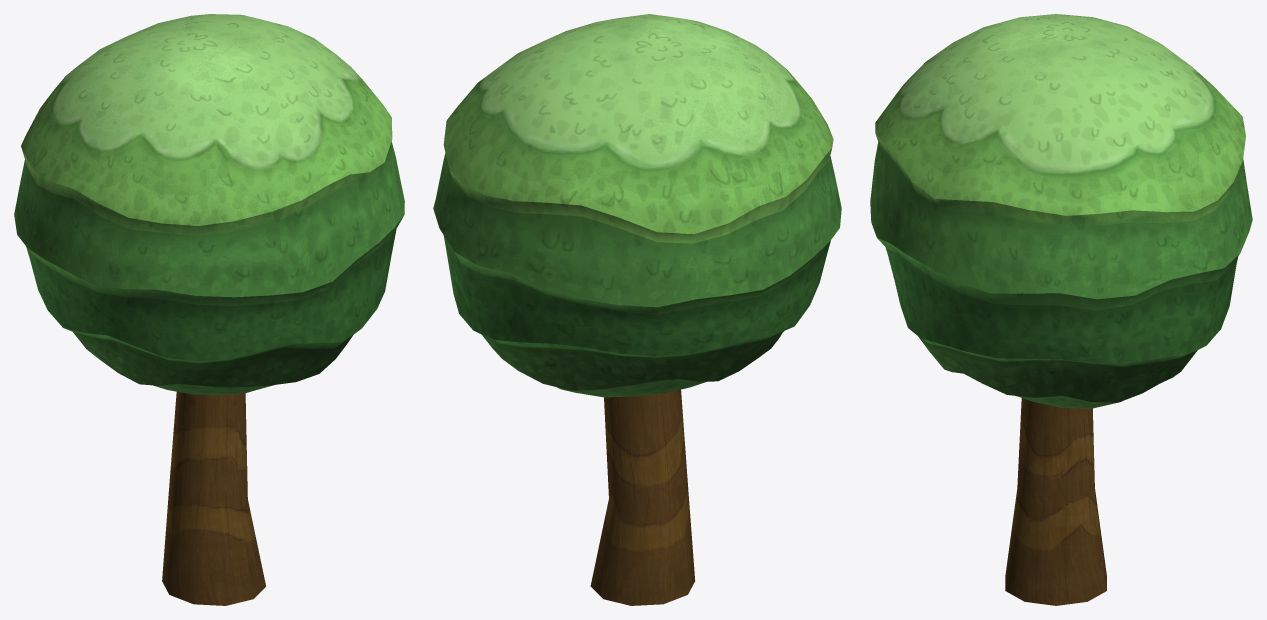
Rendered from OakTree1.fbx.
The picture shows the model from 3 angles, left to right: view 1: azimuth 30°, elevation 25°; view 2: azimuth 150°, elevation 25°; view 3: azimuth 270°, elevation 25°; orthographic projection.
Parts seen in each view (by area): view 1: Oak_Tree; view 2: Oak_Tree; view 3: Oak_Tree.
Part boxes in pixels (x1,y1,x2,y2): Oak_Tree: [14, 14, 404, 605]; Oak_Tree: [433, 14, 841, 605]; Oak_Tree: [870, 14, 1252, 605].
Size of the model in its own units: 522 by 786 by 501.
